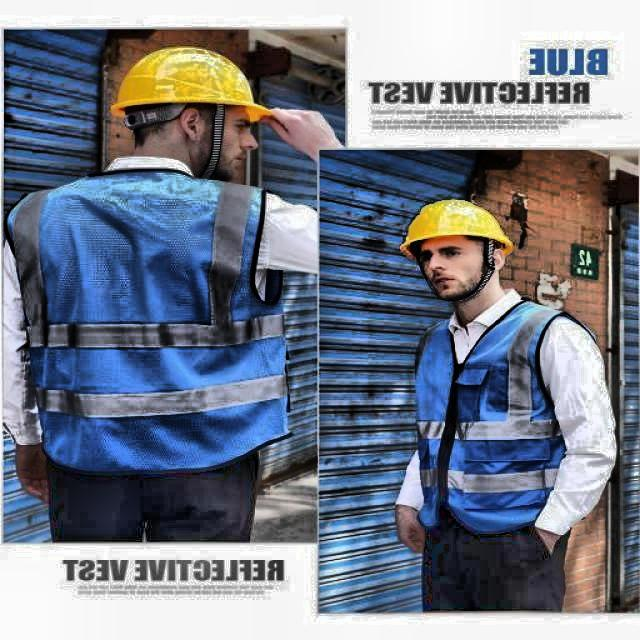safety_jacket: (25, 185, 278, 460), (416, 306, 557, 534)
